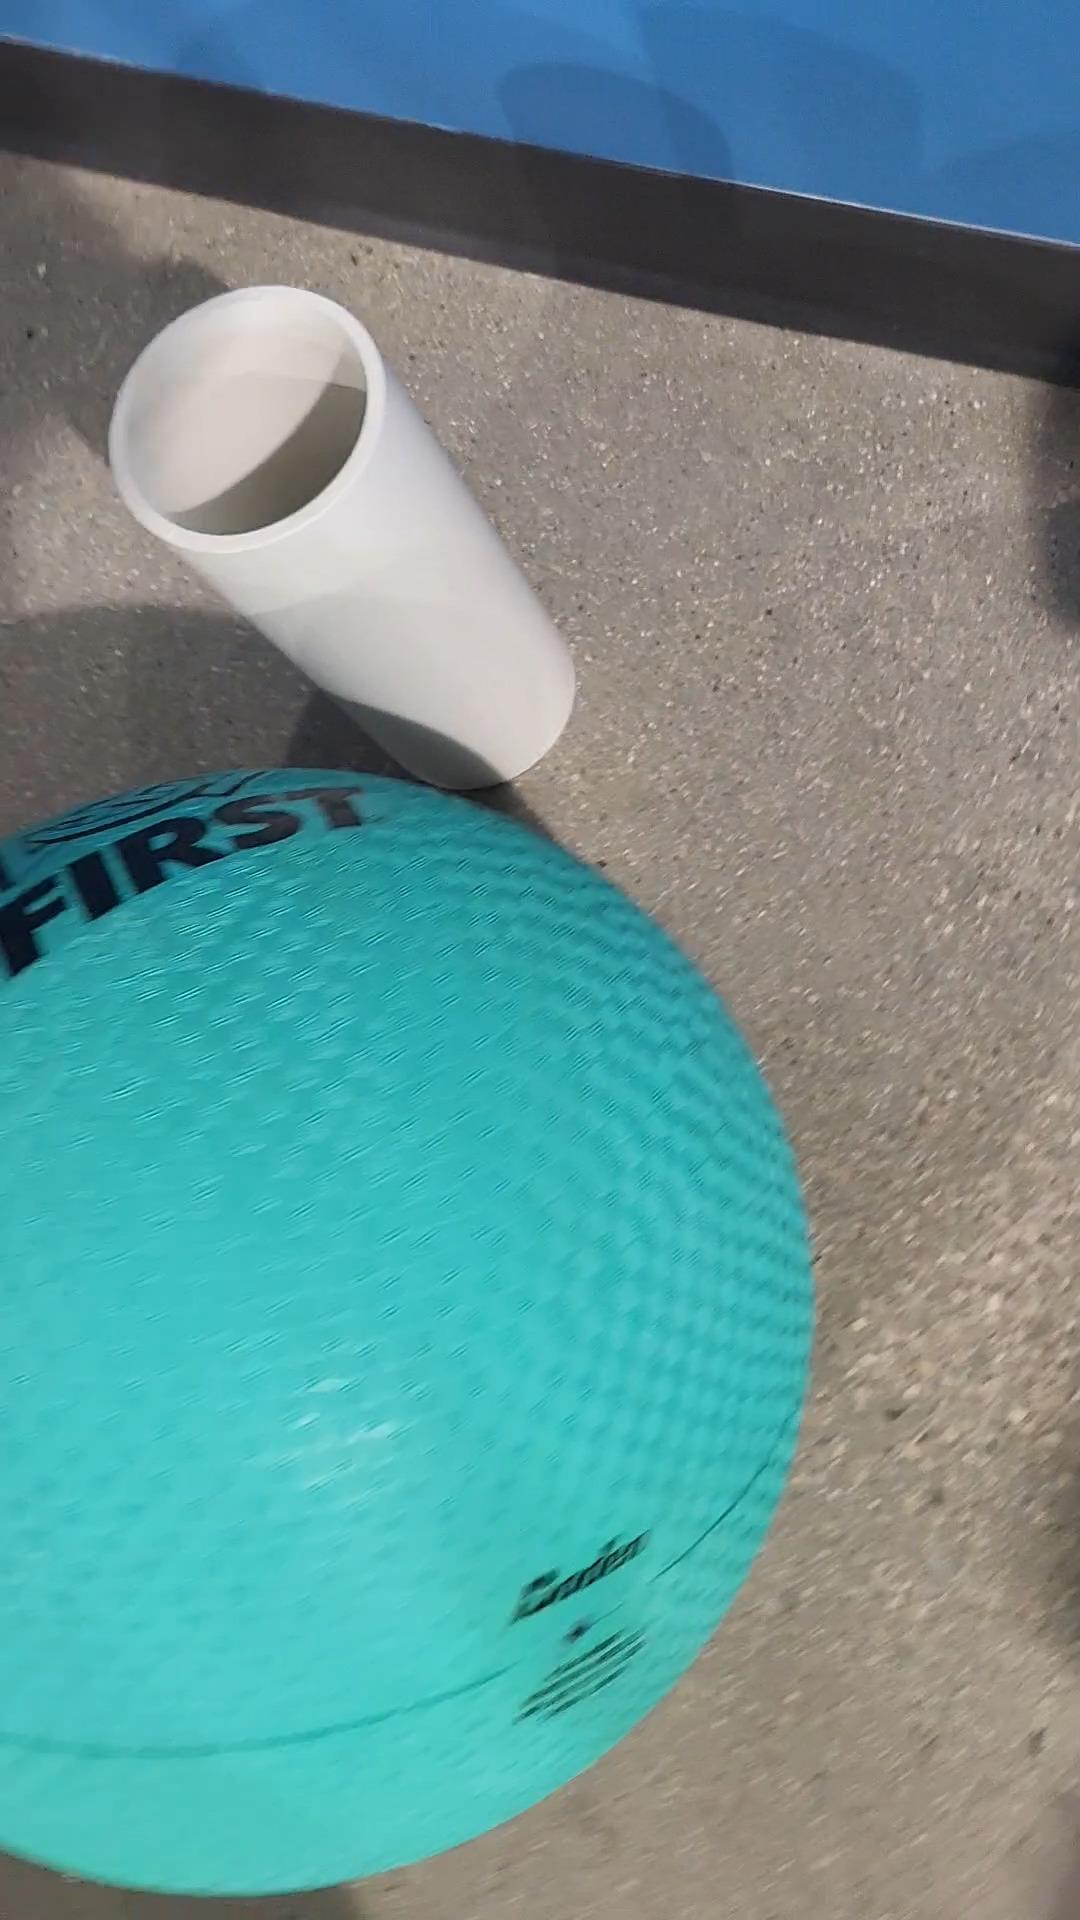algae: (0, 750, 823, 1883)
coral: (103, 264, 574, 787)
